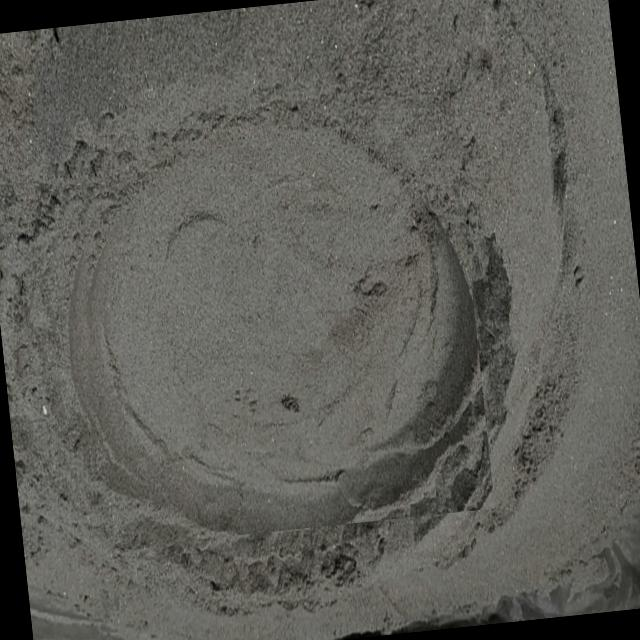C40: (80, 139, 485, 535)
